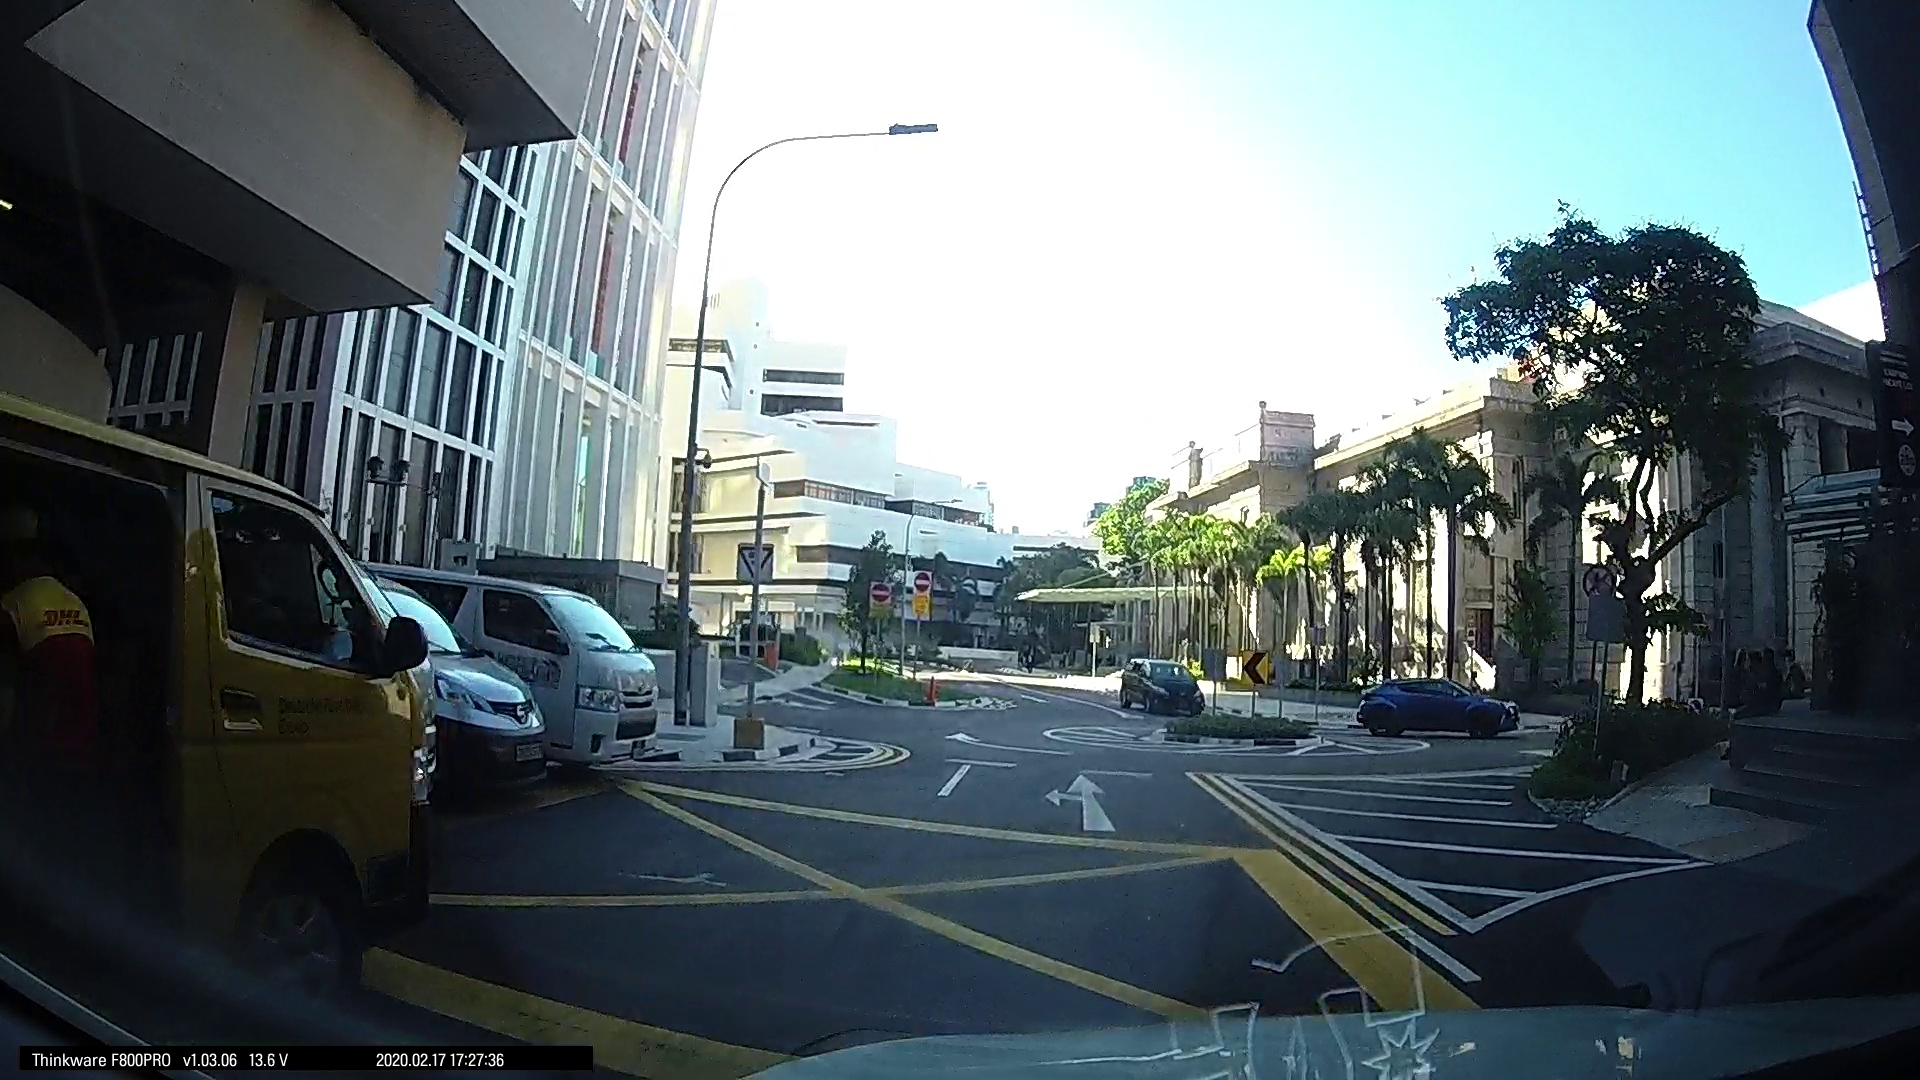Light Vehicle: (500, 647, 810, 843), (1663, 709, 1909, 865), (724, 644, 887, 777), (887, 651, 960, 723), (942, 637, 1013, 698), (1168, 663, 1220, 700)
Motorcycle: (207, 678, 527, 942)
